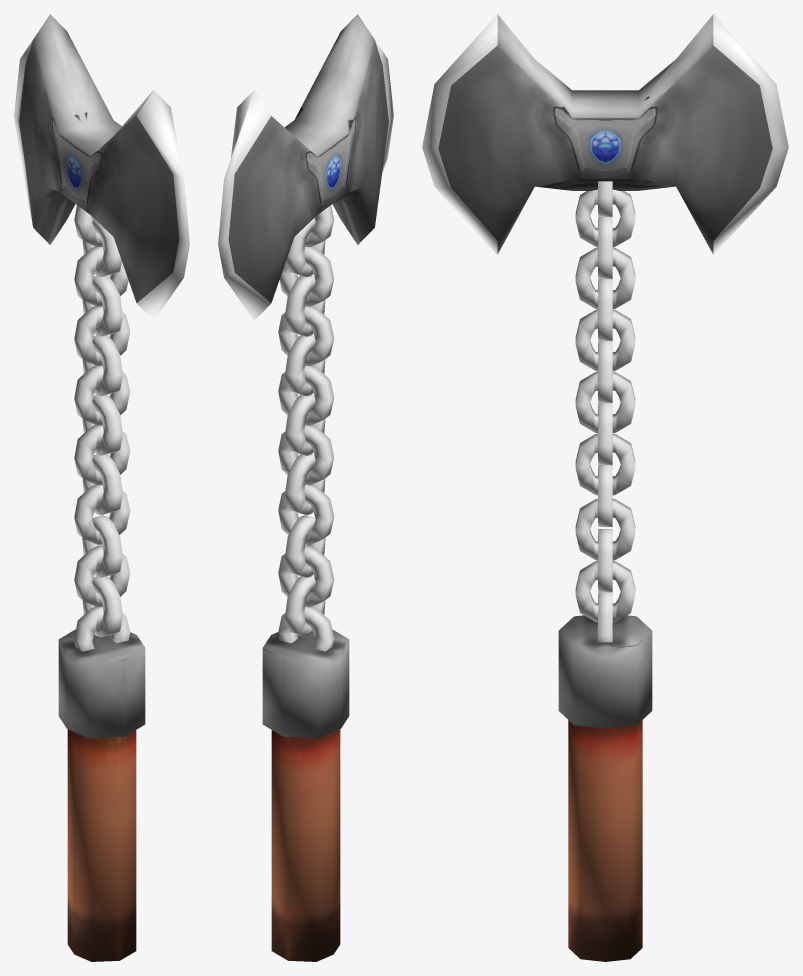
Rendered from AxeFlail.fbx.
The picture shows the model from 3 angles, left to right: view 1: azimuth 30°, elevation 25°; view 2: azimuth 150°, elevation 25°; view 3: azimuth 270°, elevation 25°; orthographic projection. The views are drawn at different scales.
Visible parts, largest first — view 1: AxeHead, Chains, FlailHandle, FlailHilt; view 2: AxeHead, Chains, FlailHandle, FlailHilt; view 3: AxeHead, Chains, FlailHandle, FlailHilt.
Boxes of the visible parts, x1,y1,x2,y2 form: AxeHead: (14, 14, 189, 320); Chains: (74, 205, 130, 651); FlailHandle: (67, 729, 136, 961); FlailHilt: (58, 629, 145, 738); AxeHead: (218, 14, 393, 320); Chains: (278, 205, 334, 651); FlailHandle: (271, 729, 340, 961); FlailHilt: (262, 629, 349, 738); AxeHead: (422, 14, 788, 254); Chains: (575, 181, 635, 642); FlailHandle: (568, 720, 642, 961); FlailHilt: (558, 615, 652, 728).
Bounding box in the file's own units: 24.54 × 301 × 107.
Materials: 4 (3 with a texture image).
